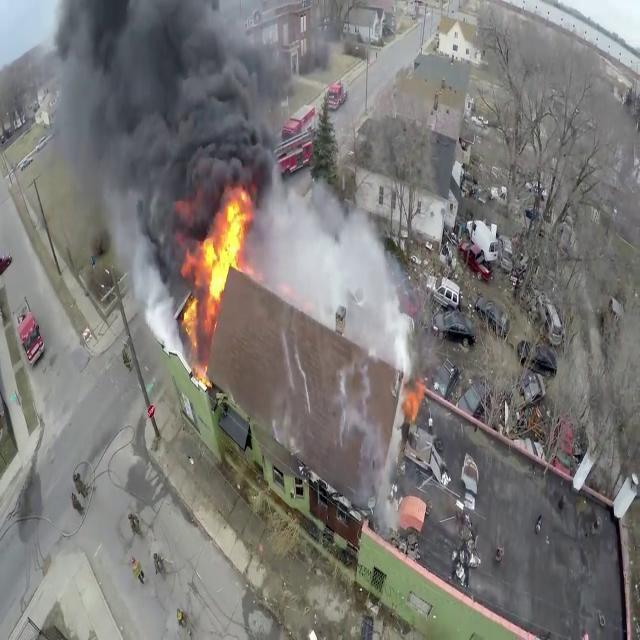Fire: (182, 185, 258, 352)
Smoke: (39, 0, 304, 288), (256, 162, 418, 370)
